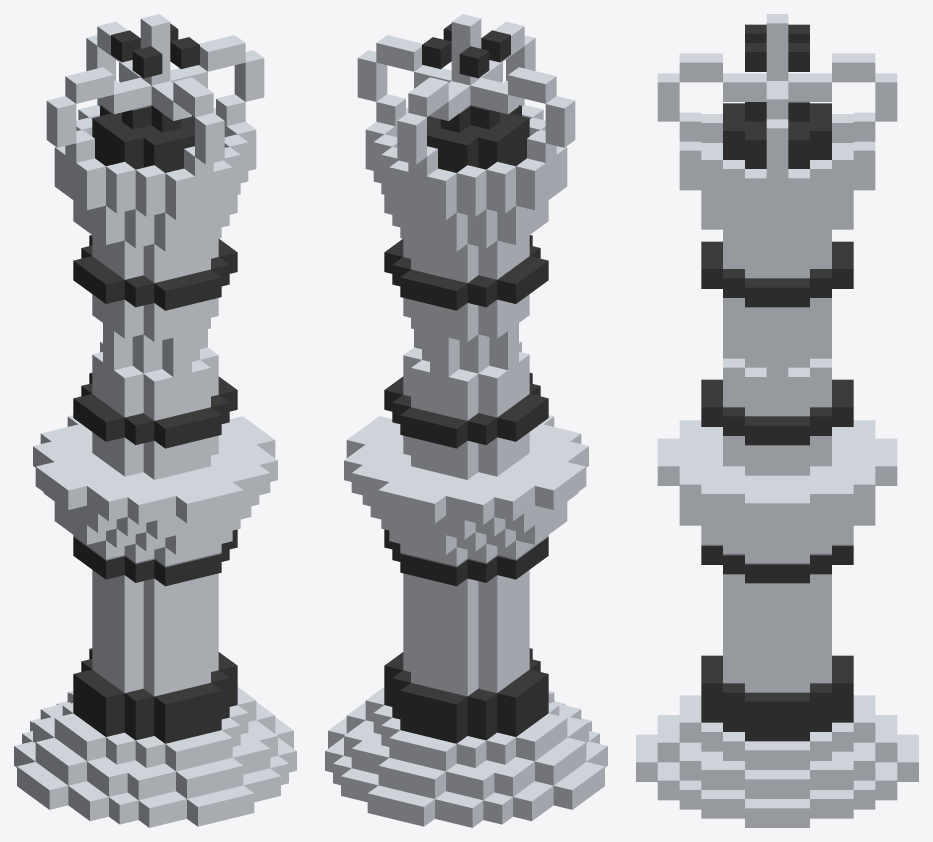
File: whiteK.dae
3 views of the same model, side by side, from view 1: azimuth 30°, elevation 25°; view 2: azimuth 150°, elevation 25°; view 3: azimuth 270°, elevation 25° (orthographic).
Visible parts, largest first — view 1: whiteK; view 2: whiteK; view 3: whiteK.
Part boxes in pixels (bbox=[...]): whiteK: bbox=[14, 14, 296, 827]; whiteK: bbox=[325, 14, 607, 827]; whiteK: bbox=[636, 14, 918, 827].
Bounding box in the file's own units: 13 × 38 × 13.
1 material, 1 textured.
